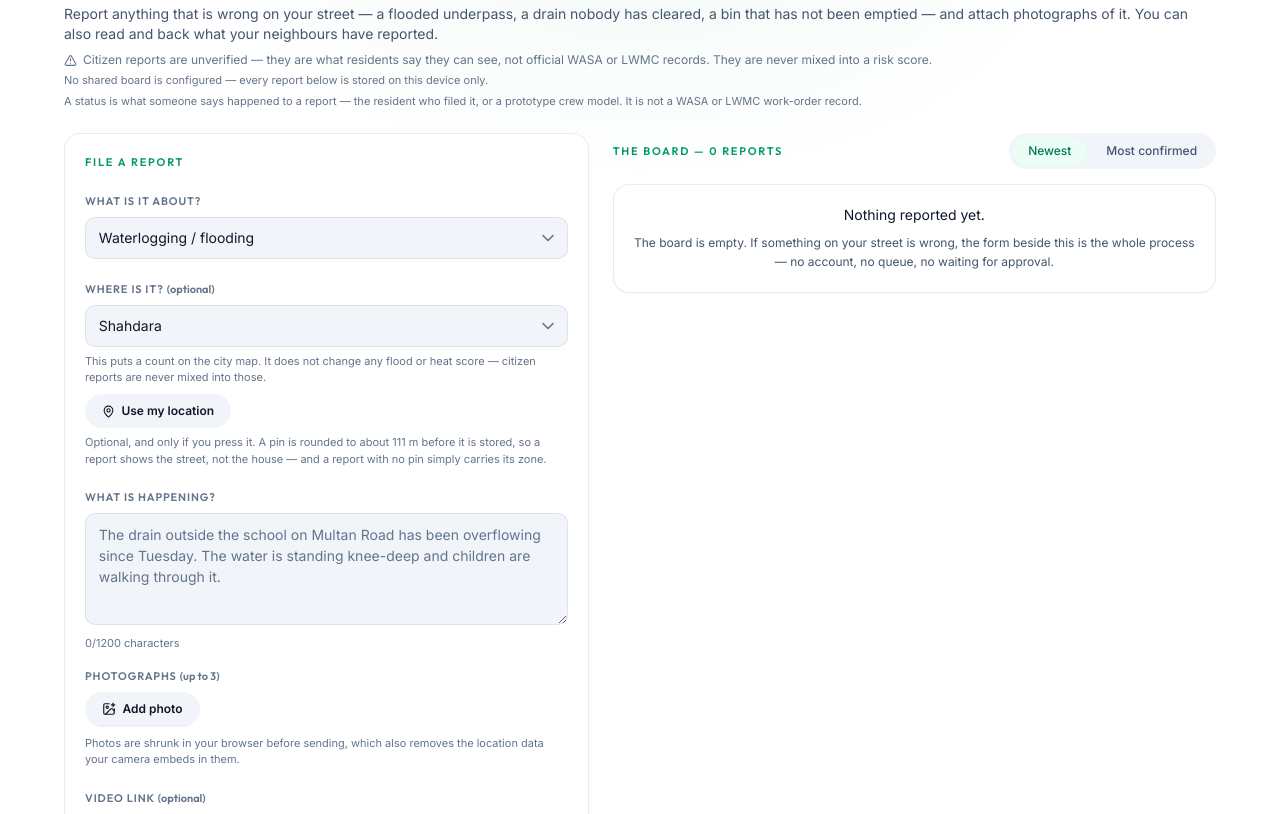
ComplaintsView — filing a report › hands the trimmed report to the board
Replace the text in the text box labelled "What is happening?" with "  The drain is blocked and overflowing.  ". click: (326, 569)
box: [85,513,568,625]
(page scrolled)
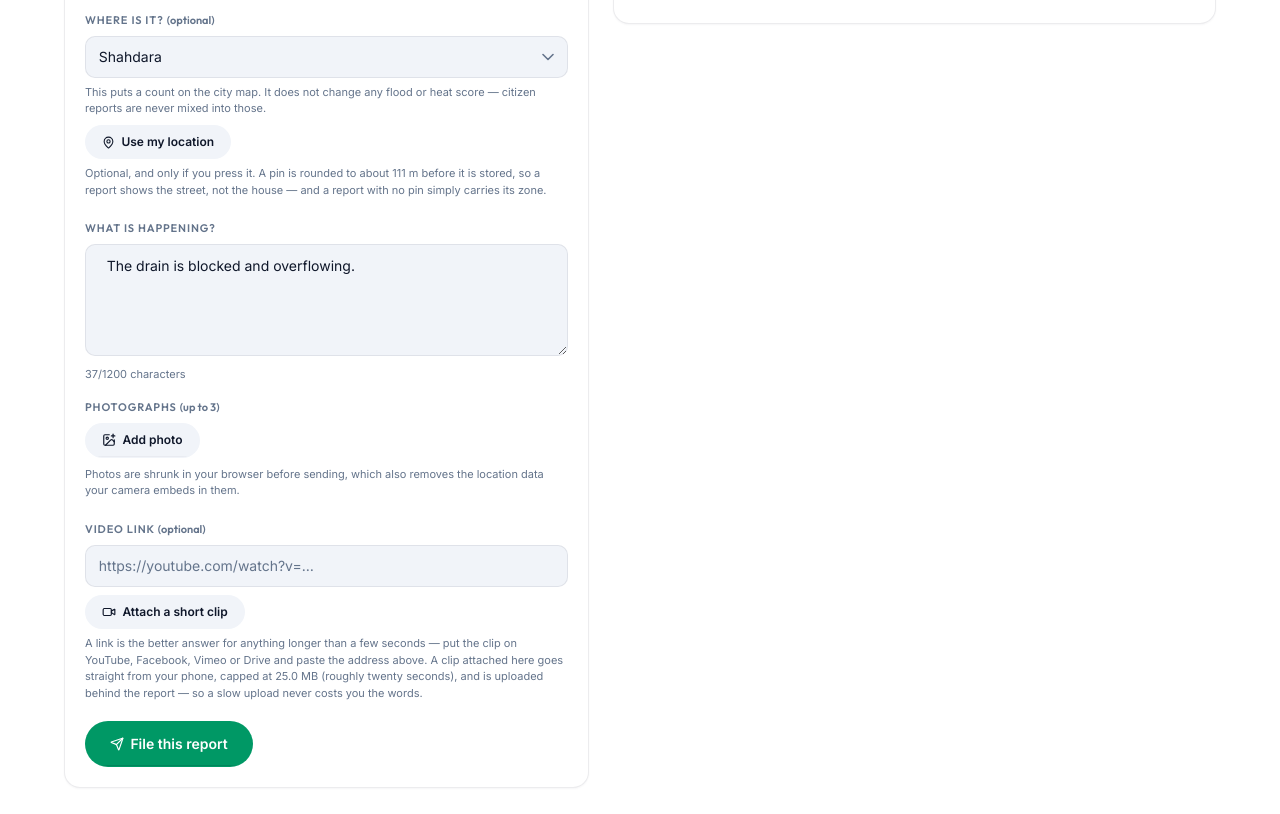
Click the button "File this report". click: (169, 744)
box: [85,721,253,767]
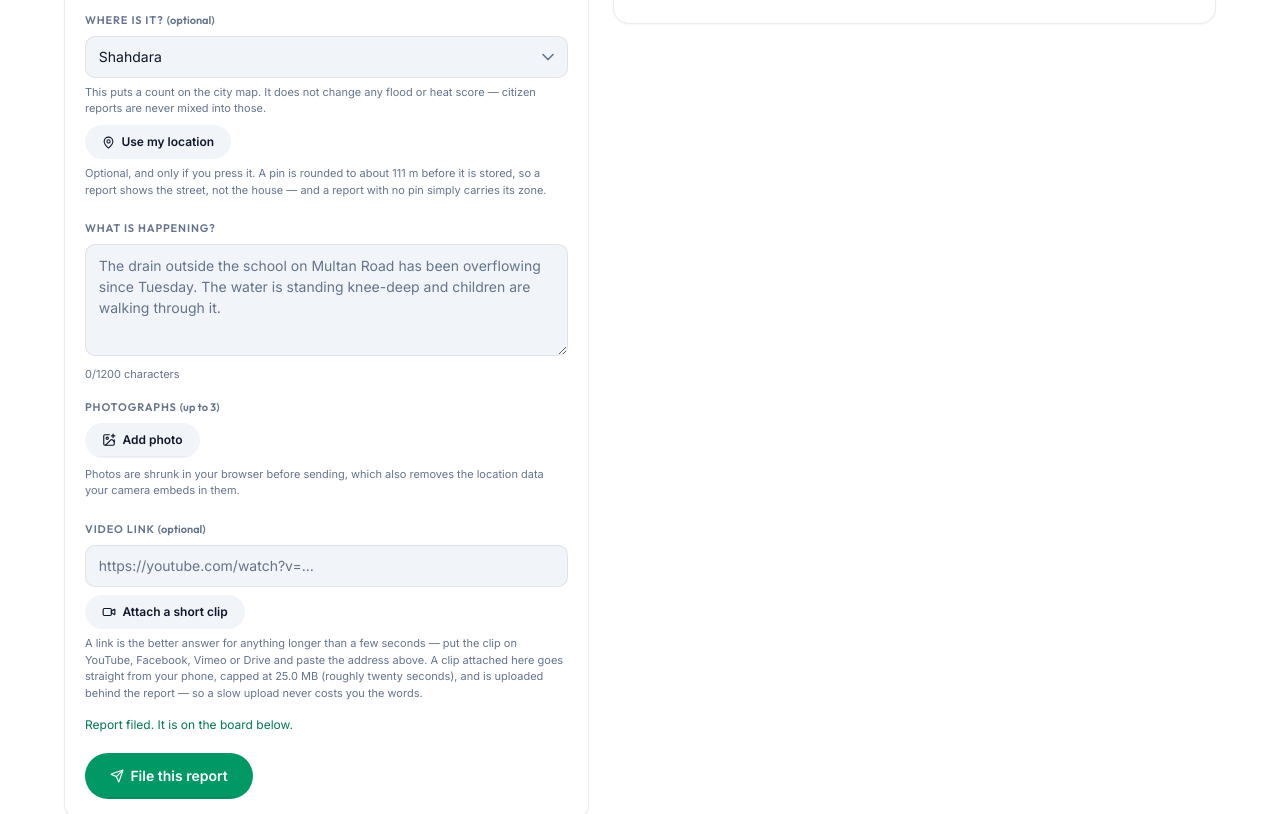
Expected: the message "Report filed. It is on the board below." is shown, [85,717,293,732]
